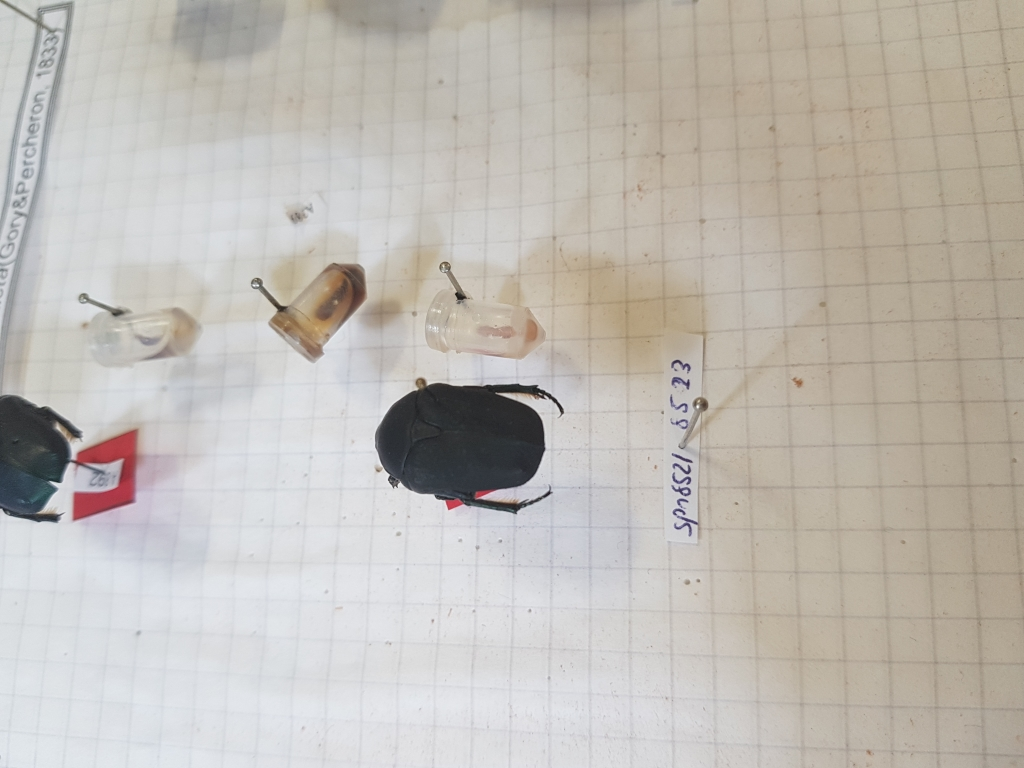Protaetia_afflicta: (371, 377, 569, 514)
